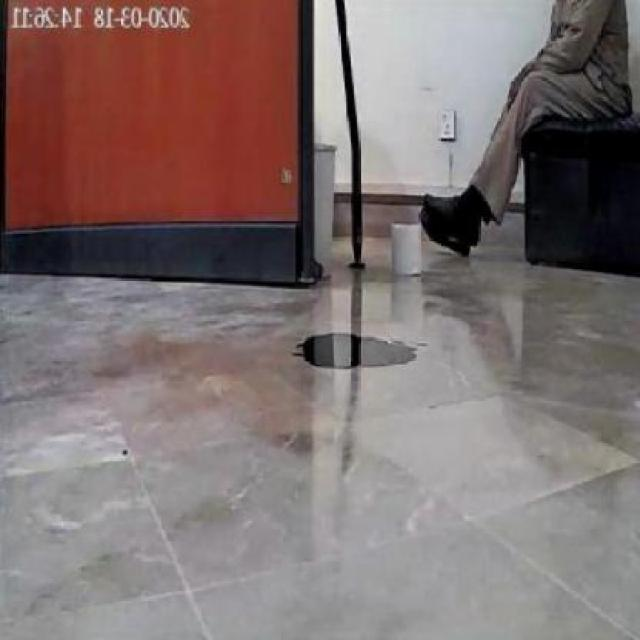spillage: (293, 329, 416, 377)
